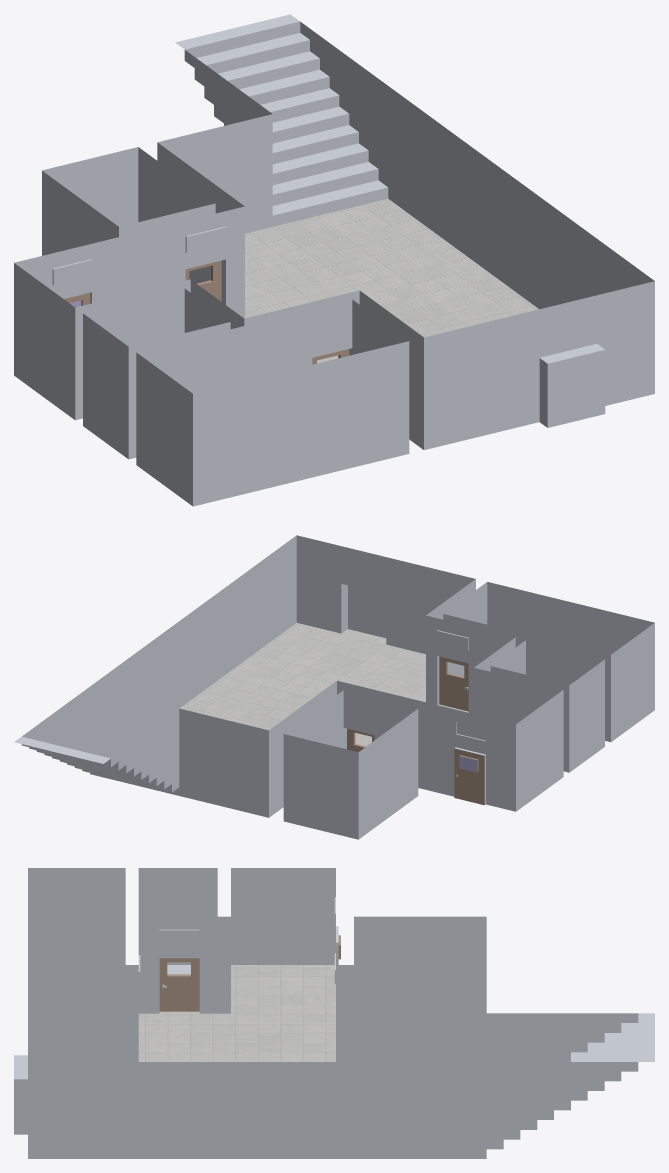
Rendered from inf.glb.
3 views of the same model, one above another, from view 1: azimuth 30°, elevation 25°; view 2: azimuth 150°, elevation 25°; view 3: azimuth 270°, elevation 25° (orthographic). The views are drawn at different scales.
Parts seen in each view (by area): view 1: Plane; view 2: Plane; view 3: Plane.
Part boxes in pixels (left/top/right/bottom): Plane: left=14, top=14, right=654, bottom=506; Plane: left=14, top=535, right=654, bottom=839; Plane: left=14, top=868, right=654, bottom=1158.
Size of the model in its own units: 30 by 7 by 41.92.
6 materials, 1 textured.
